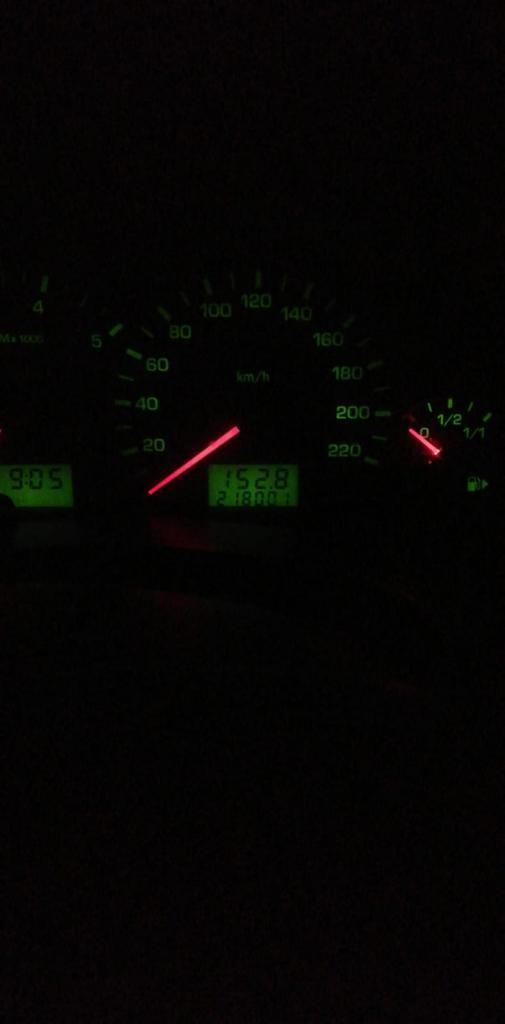,: (269, 485, 273, 489)
0: (254, 490, 263, 505), (267, 490, 276, 505)
1: (225, 469, 230, 488), (235, 492, 239, 506), (285, 492, 289, 504)
2: (255, 468, 268, 489), (216, 490, 225, 506)
5: (235, 467, 249, 489)
8: (274, 468, 287, 488), (241, 490, 250, 505)
odometer: (207, 462, 301, 510)
